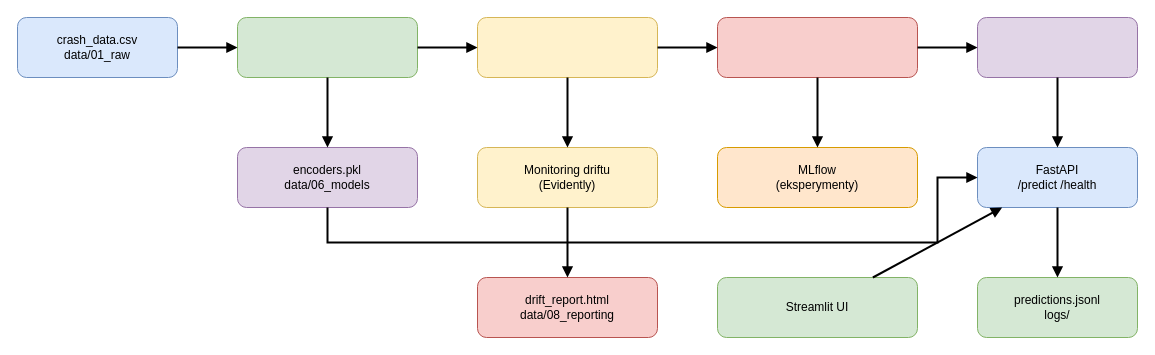
Some shapes in this 1155 by 355 pixel diagram are drawn without their labels. The shapes that lost their labels are listed below. From the top down, each one's centre as x and y in pixels, then its label:
[327,47]: Kedro data_preparation
[567,47]: crash_features.parquet data/03_primary
[817,47]: Trening: baseline / tuning / AutoML
[1057,47]: model.pkl data/06_models
